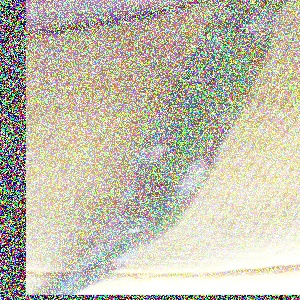Brown_Spot: (70, 180, 160, 282), (131, 87, 185, 176), (175, 147, 227, 204), (200, 96, 250, 143), (234, 1, 285, 43), (194, 24, 231, 62), (177, 66, 223, 93), (195, 0, 238, 25)
